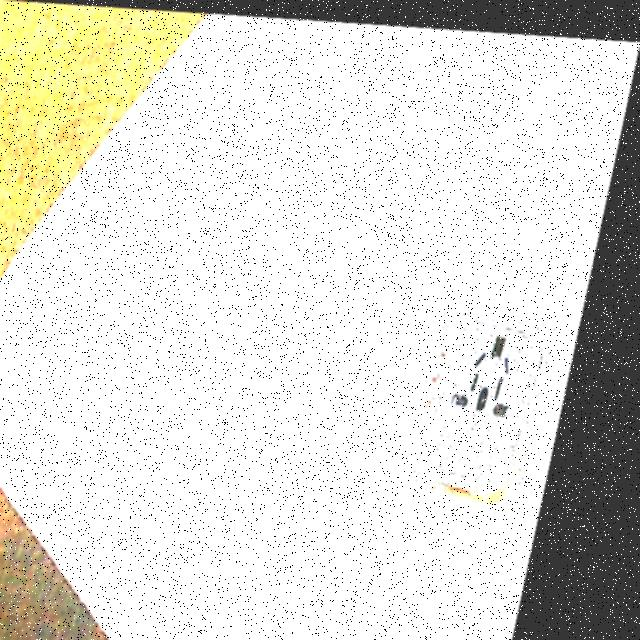adapter: (426, 303, 570, 489)
